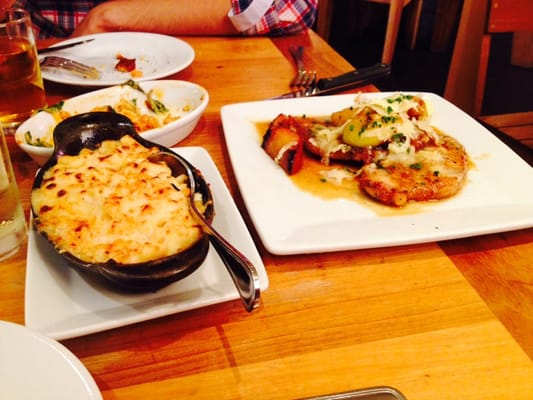pizza: (0, 7, 47, 127), (0, 114, 29, 263)
sushi: (29, 110, 211, 292), (44, 77, 210, 152), (1, 320, 104, 400), (92, 79, 210, 147)
